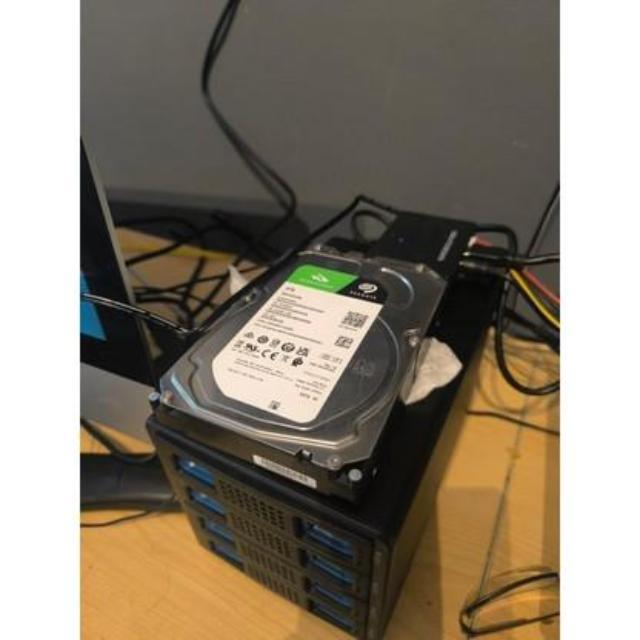DISK: (164, 247, 436, 473)
